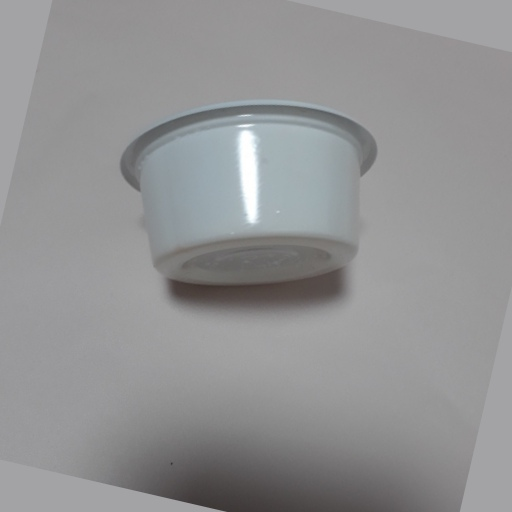Plastic_5: (112, 97, 379, 293)
